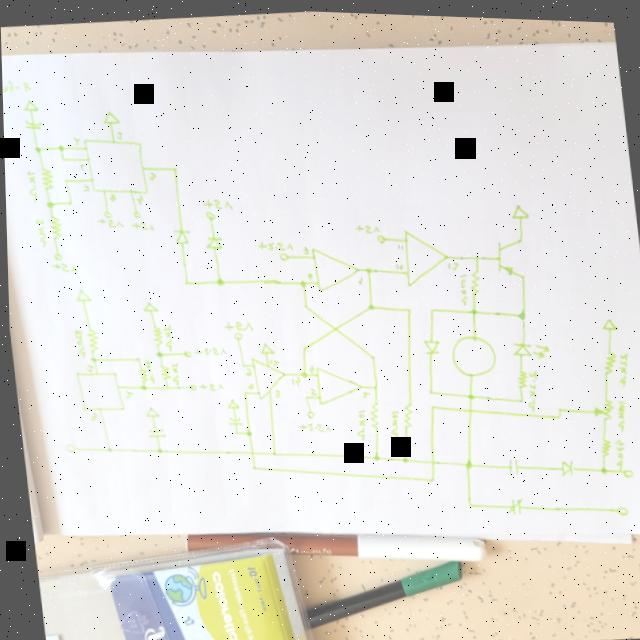capacitor: (143, 426, 165, 440), (223, 412, 242, 427), (22, 118, 43, 131)
crossover: (328, 322, 339, 331), (244, 446, 253, 455), (463, 404, 471, 413), (426, 457, 433, 464)
diode: (506, 333, 550, 358), (168, 224, 192, 246), (554, 453, 573, 475), (202, 231, 221, 249), (420, 336, 438, 353)
ground: (506, 197, 530, 219), (100, 108, 119, 127), (19, 96, 40, 113), (596, 311, 616, 328), (72, 286, 91, 303), (141, 404, 158, 418), (222, 396, 239, 410), (255, 340, 273, 353), (139, 299, 156, 312)
inductor: (447, 329, 495, 375)
junction: (178, 346, 190, 358), (212, 275, 224, 286), (514, 306, 525, 318), (460, 456, 471, 467), (31, 144, 42, 155), (295, 276, 306, 287), (466, 303, 476, 314), (361, 263, 371, 274), (241, 426, 251, 437), (43, 199, 53, 209), (296, 367, 306, 377), (364, 299, 373, 310), (153, 348, 162, 359), (368, 450, 378, 459), (397, 452, 406, 462), (56, 143, 65, 153), (402, 302, 411, 312), (463, 389, 473, 398), (596, 461, 605, 471), (152, 446, 161, 455), (461, 497, 470, 506), (470, 250, 479, 259), (299, 300, 308, 309), (514, 392, 523, 401), (552, 402, 561, 411), (101, 445, 110, 453), (180, 277, 188, 286), (64, 198, 72, 207), (297, 342, 305, 351), (169, 163, 177, 172), (367, 351, 375, 360), (132, 354, 140, 363), (426, 400, 434, 408), (424, 385, 432, 393), (426, 303, 434, 311), (369, 381, 377, 389), (552, 409, 560, 417), (136, 382, 144, 390), (247, 462, 254, 470), (425, 473, 432, 480), (267, 448, 274, 455), (61, 177, 68, 184), (88, 356, 95, 363), (58, 155, 65, 162), (230, 427, 237, 434), (161, 383, 167, 389), (301, 394, 306, 398), (240, 390, 245, 394), (239, 362, 243, 366)
resistor: (588, 394, 612, 418), (597, 345, 616, 374), (364, 399, 380, 430), (45, 214, 62, 243), (465, 266, 481, 295), (37, 166, 53, 192), (398, 399, 412, 428), (83, 326, 96, 356), (595, 433, 610, 454), (514, 364, 527, 387), (149, 323, 161, 346), (156, 360, 168, 381), (136, 365, 146, 382)
switch: (503, 492, 522, 514), (502, 453, 519, 474)
terminal: (203, 208, 216, 220), (375, 229, 386, 243), (62, 442, 74, 454), (275, 250, 288, 261), (613, 500, 625, 511), (619, 464, 630, 474), (100, 209, 112, 218), (51, 253, 61, 262), (231, 330, 242, 338), (131, 209, 140, 218), (303, 408, 312, 416), (186, 382, 194, 391)
text: (207, 570, 237, 640), (244, 562, 265, 613), (521, 363, 539, 409), (612, 346, 630, 385), (254, 234, 293, 252), (200, 194, 234, 211), (609, 432, 626, 466), (350, 404, 366, 440), (294, 418, 329, 434), (384, 405, 399, 441), (611, 396, 627, 429), (453, 268, 468, 303), (2, 78, 31, 96), (23, 169, 38, 203), (189, 342, 225, 356), (32, 218, 47, 248), (138, 625, 168, 640), (220, 317, 251, 331), (351, 219, 378, 235), (95, 215, 122, 230), (50, 260, 75, 276), (193, 379, 222, 392), (71, 328, 83, 358), (159, 323, 172, 350), (129, 219, 154, 232), (142, 358, 153, 383), (168, 360, 177, 386), (287, 373, 301, 386), (75, 160, 86, 173), (444, 258, 458, 268), (105, 191, 116, 203), (145, 170, 157, 181), (133, 193, 144, 205), (120, 389, 131, 400), (302, 268, 313, 279), (392, 258, 403, 269), (392, 240, 403, 251), (112, 129, 123, 140), (353, 273, 363, 284), (69, 135, 80, 145), (299, 243, 309, 254), (241, 365, 250, 377), (265, 356, 277, 365), (271, 386, 280, 397), (87, 411, 96, 421), (83, 363, 93, 372), (80, 183, 89, 192), (359, 387, 368, 396), (243, 381, 252, 389), (307, 386, 314, 395), (305, 363, 312, 372)
transistor: (491, 230, 528, 278)
